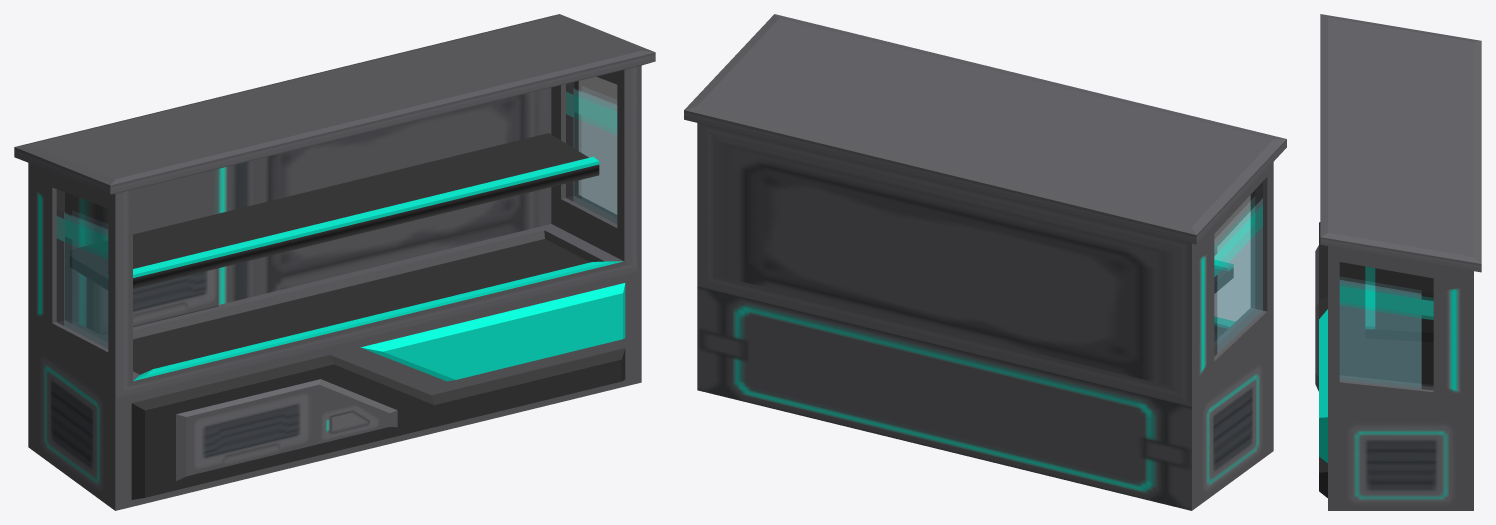
The model's file is SM_Prop_Food_Shelf_03.fbx.
3 views of the same model, side by side, from view 1: azimuth 30°, elevation 25°; view 2: azimuth 150°, elevation 25°; view 3: azimuth 270°, elevation 25° (orthographic). The views are drawn at different scales.
Visible parts, largest first — view 1: SM_Prop_Food_Shelf_03; view 2: SM_Prop_Food_Shelf_03; view 3: SM_Prop_Food_Shelf_03.
Part boxes in pixels (x1,y1,x2,y2): SM_Prop_Food_Shelf_03: [14, 14, 655, 510]; SM_Prop_Food_Shelf_03: [684, 14, 1286, 510]; SM_Prop_Food_Shelf_03: [1315, 14, 1481, 510].
Bounding box in the file's own units: 229 × 133 × 71.99.
